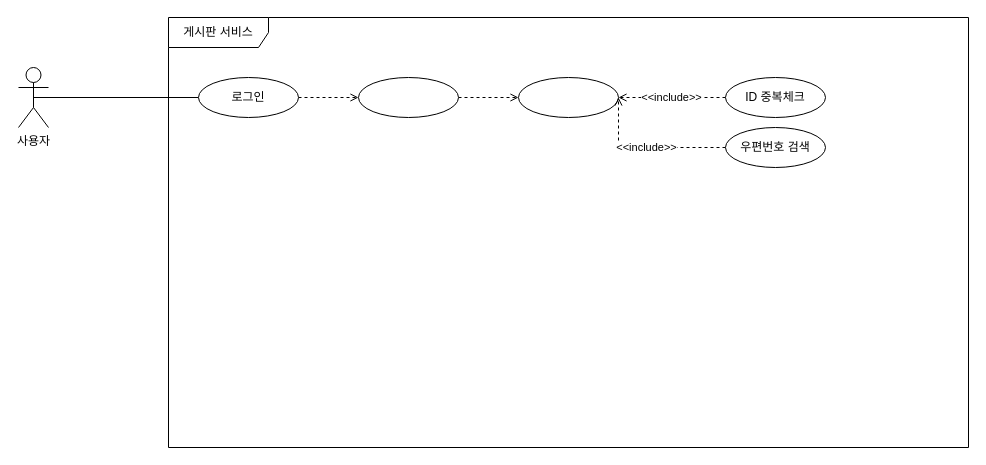
Image size: 986x465. Some labels were removed from this diagram. Each missing label, with the centre of its shape:
약관: the point at 408,97
회원가입: the point at 568,97
